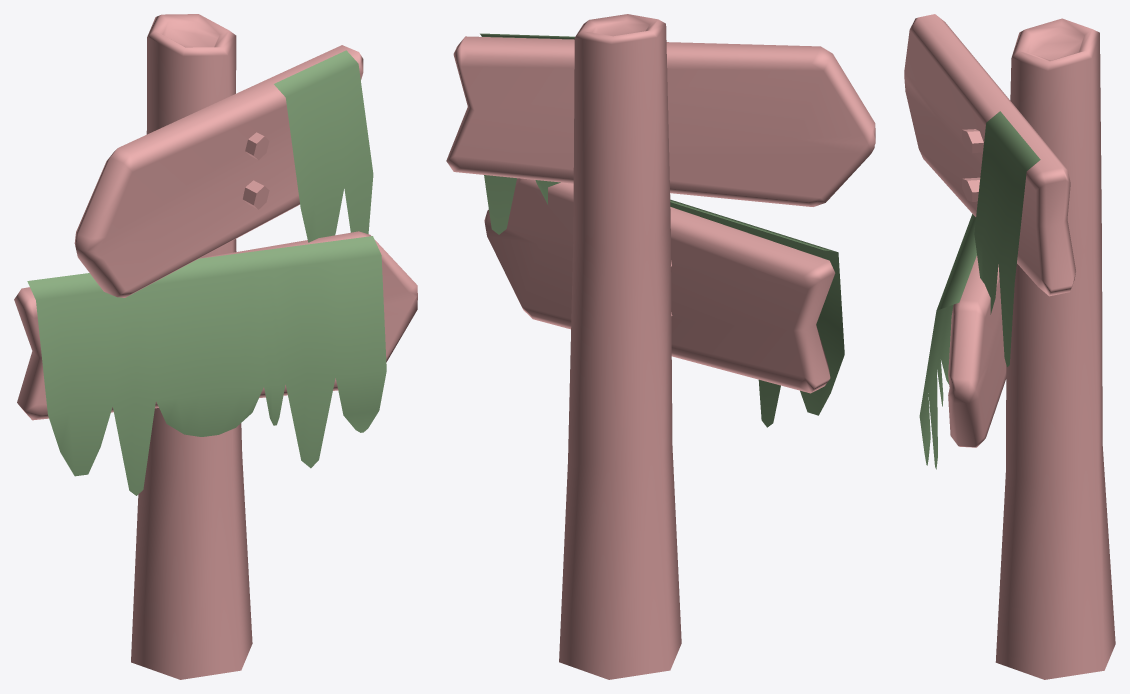
File: Sign_2.fbx
The picture shows the model from 3 angles, left to right: view 1: azimuth 30°, elevation 25°; view 2: azimuth 150°, elevation 25°; view 3: azimuth 270°, elevation 25°; orthographic projection. The views are drawn at different scales.
Parts seen in each view (by area): view 1: Signs_2; view 2: Signs_2; view 3: Signs_2.
Part boxes in pixels (x1,y1,x2,y2): Signs_2: (14,14,417,679); Signs_2: (446,14,875,679); Signs_2: (904,14,1115,679).
Bounding box in the file's own units: 83.49 × 135 × 41.83.
